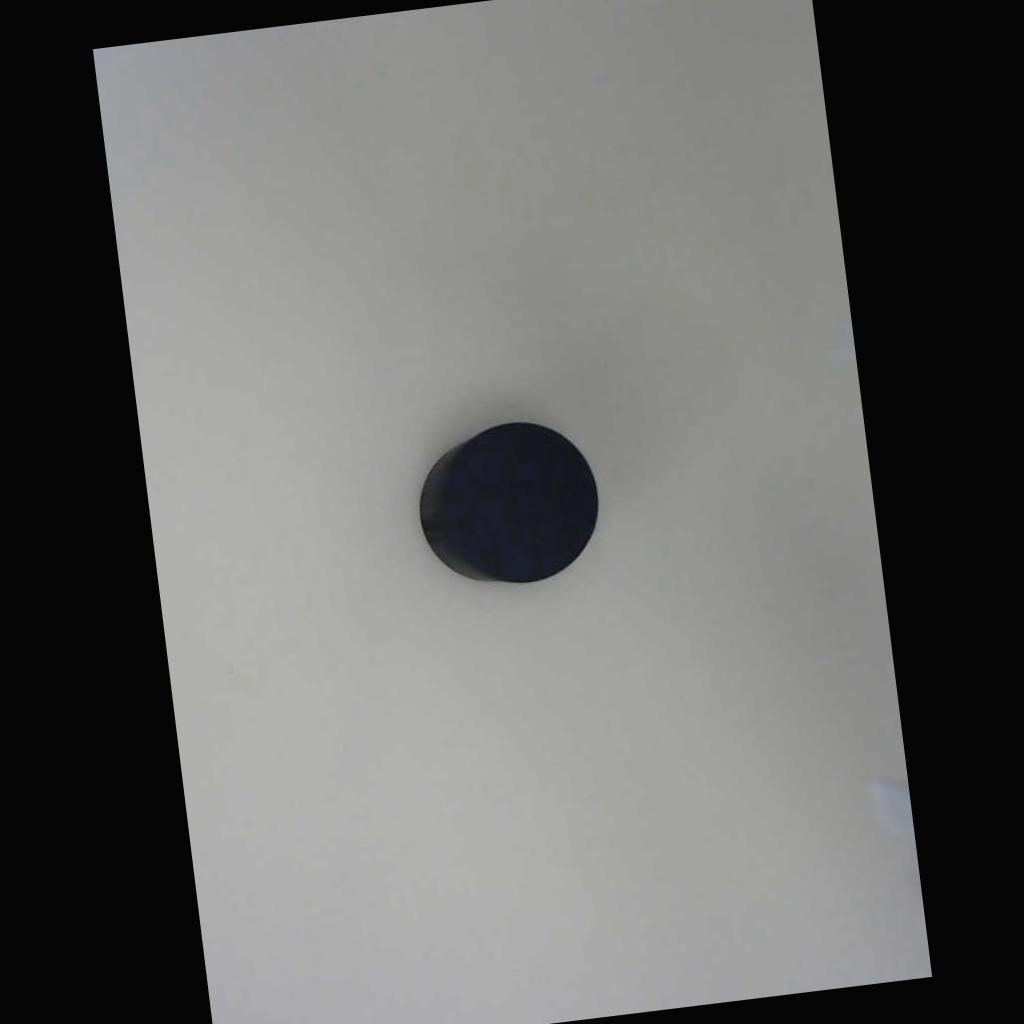circle: (402, 398, 615, 611)
